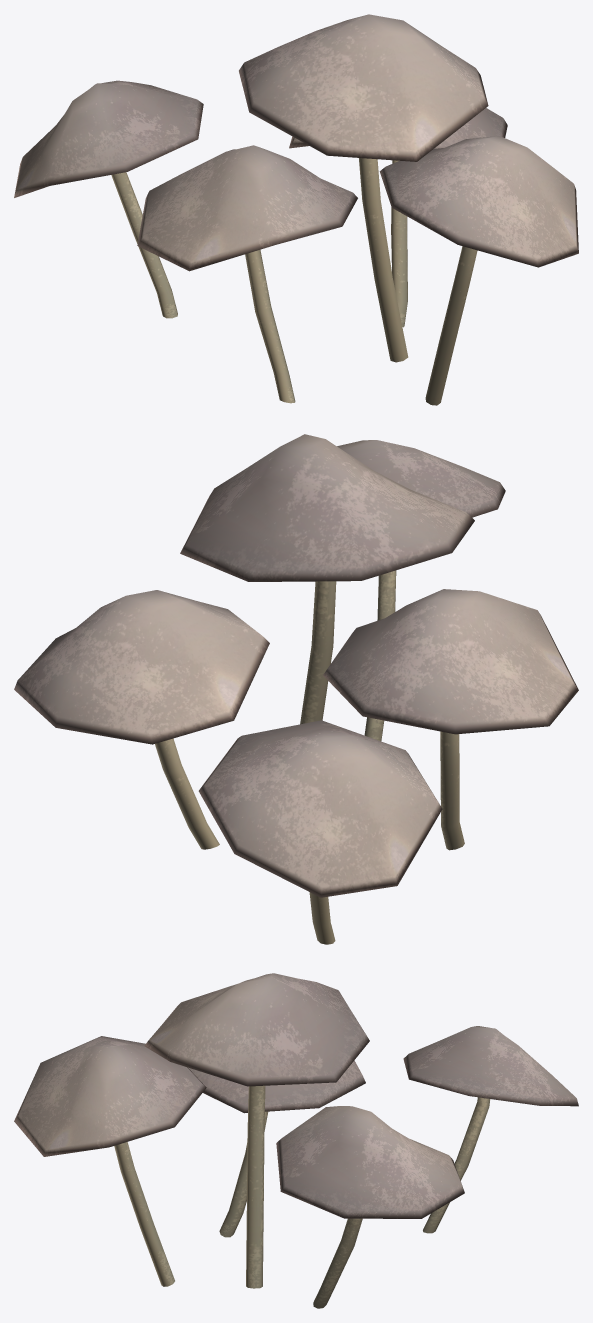
The model's file is jardin_hongo.obj.
The picture shows the model from 3 angles, top to bottom: view 1: azimuth 30°, elevation 25°; view 2: azimuth 150°, elevation 25°; view 3: azimuth 270°, elevation 25°; orthographic projection. The views are drawn at different scales.
Visible parts, largest first — view 1: jardin_hongo; view 2: jardin_hongo; view 3: jardin_hongo.
Part boxes in pixels (bbox=[...]): jardin_hongo: bbox=[14, 14, 578, 405]; jardin_hongo: bbox=[14, 434, 578, 944]; jardin_hongo: bbox=[14, 973, 578, 1308].
Bounding box in the file's own units: 0.5637 × 0.4635 × 0.7791.
